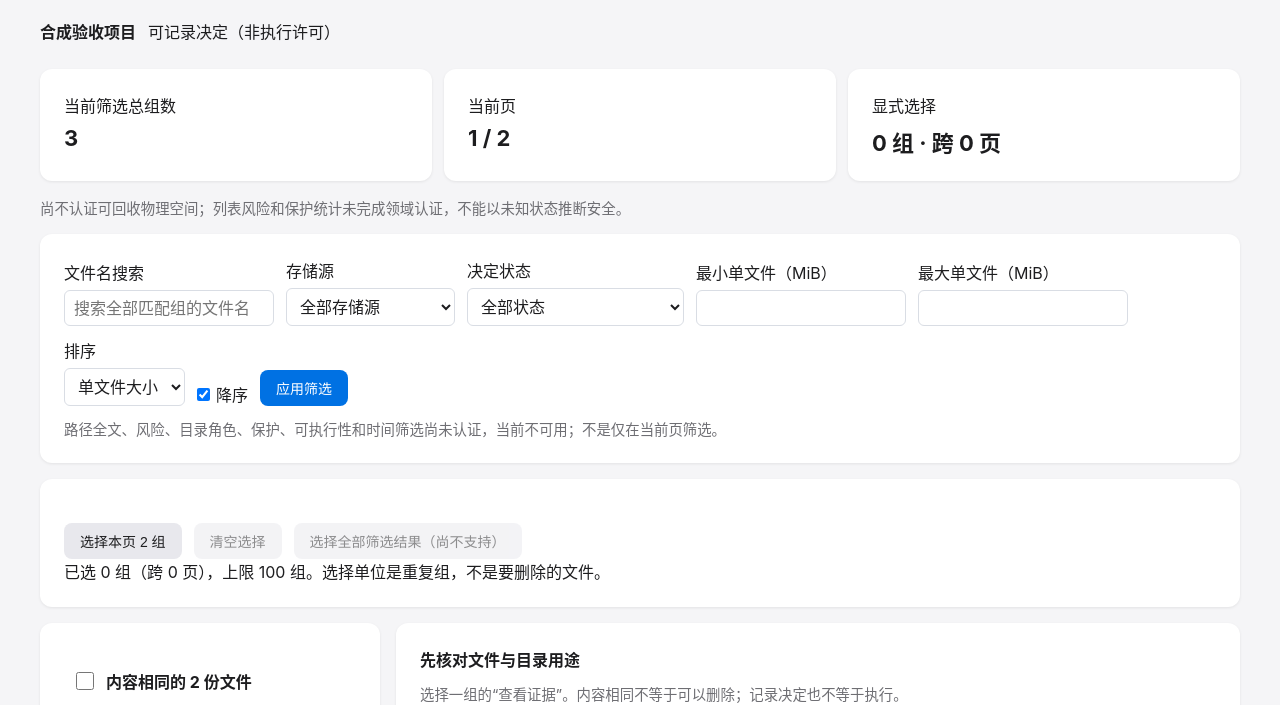
Test: governance workbench selection and records-only flow › preserves explicit groups across pages and never submits hidden unselected IDs
The image size is (1280, 705).
Click the checkbox named "选择本页第 1 组".
click(85, 681)  # box x1=76 y1=672 x2=94 y2=690
(page scrolled)
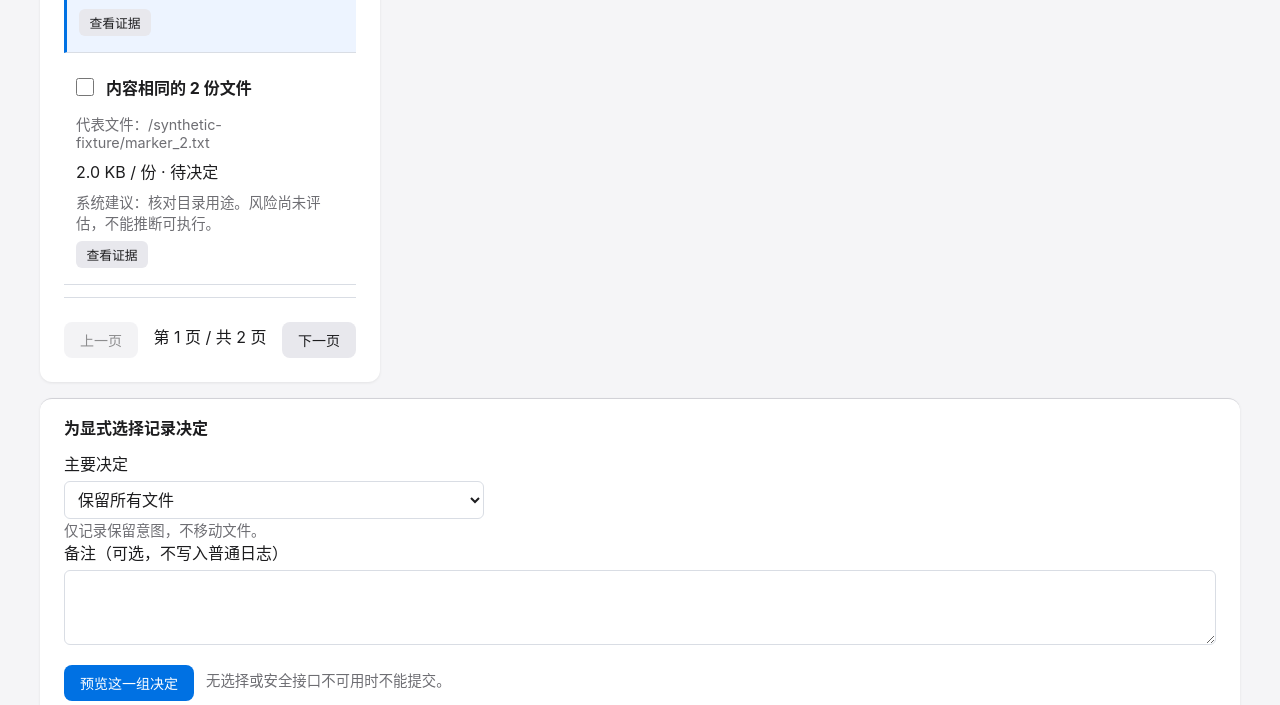
Click the button "下一页".
click(319, 340)  # box x1=282 y1=322 x2=356 y2=358
(page scrolled)
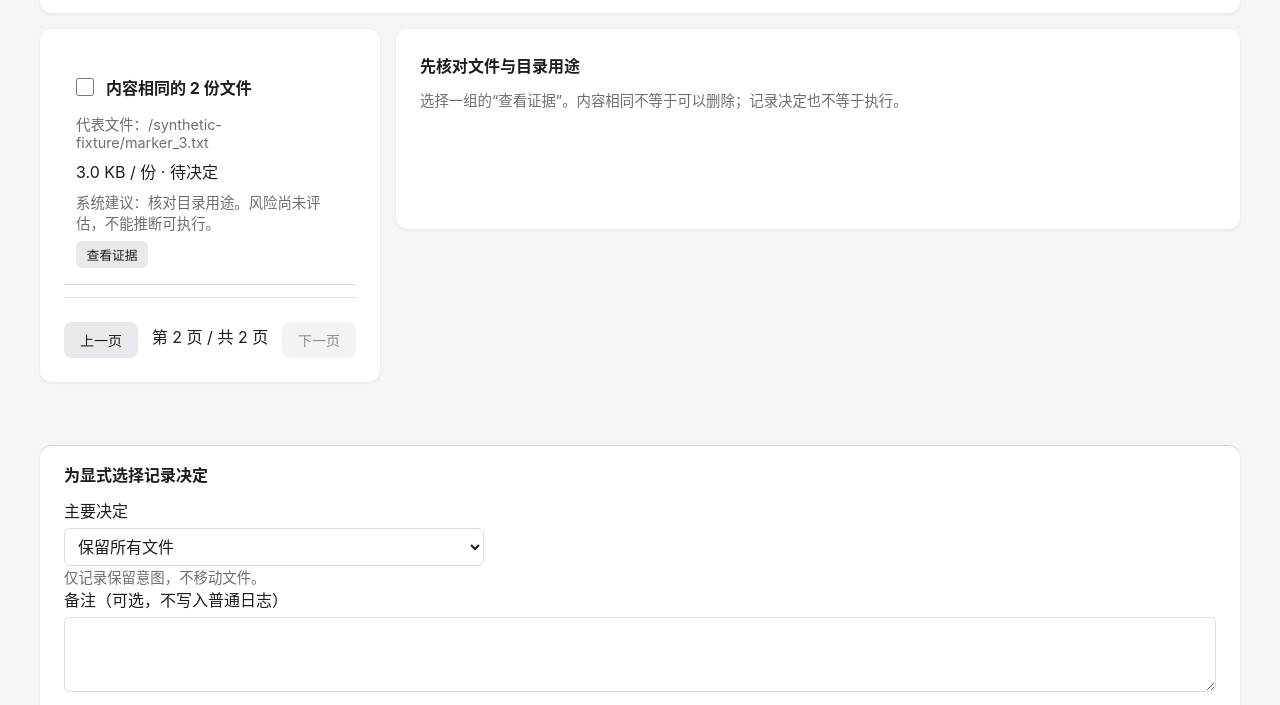
Now the text "代表文件：/synthetic-fixture/marker_3.txt" is shown, box x1=76 y1=116 x2=222 y2=151
Click the checkbox named "选择本页第 1 组".
click(85, 87)  # box x1=76 y1=78 x2=94 y2=96
(page scrolled)
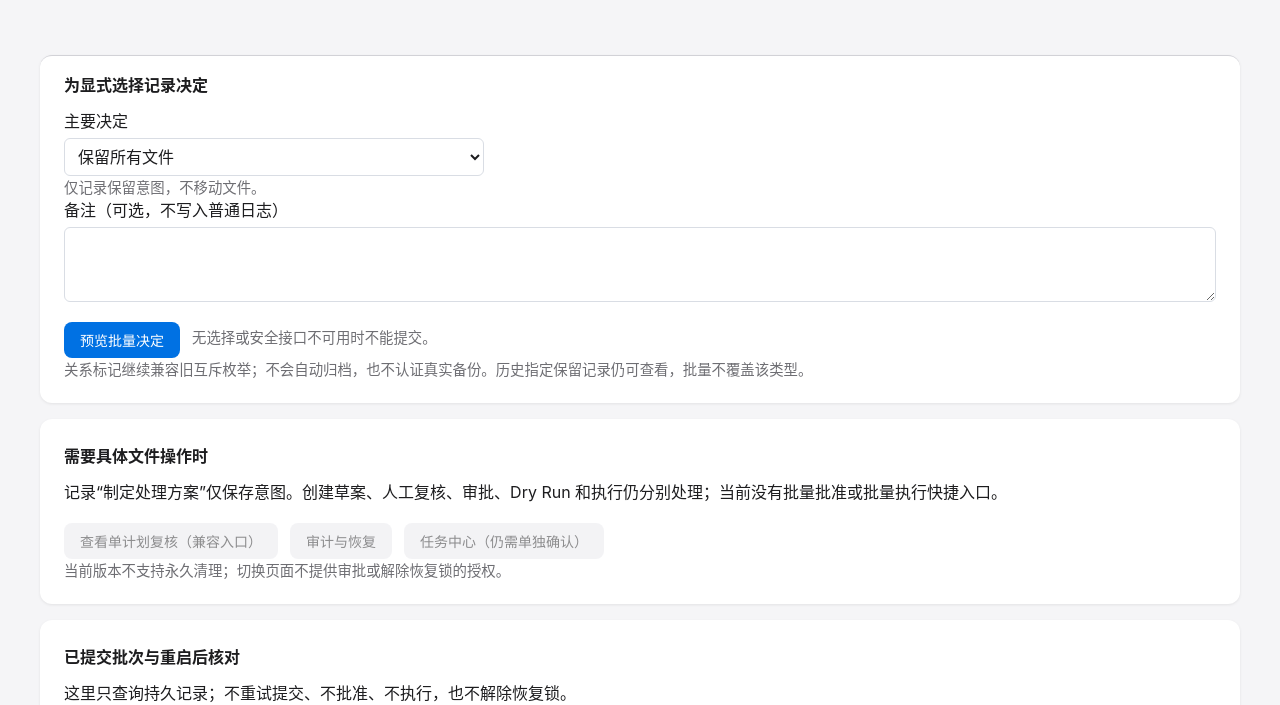
Click the button "预览批量决定".
click(122, 340)  # box x1=64 y1=322 x2=180 y2=358
(page scrolled)
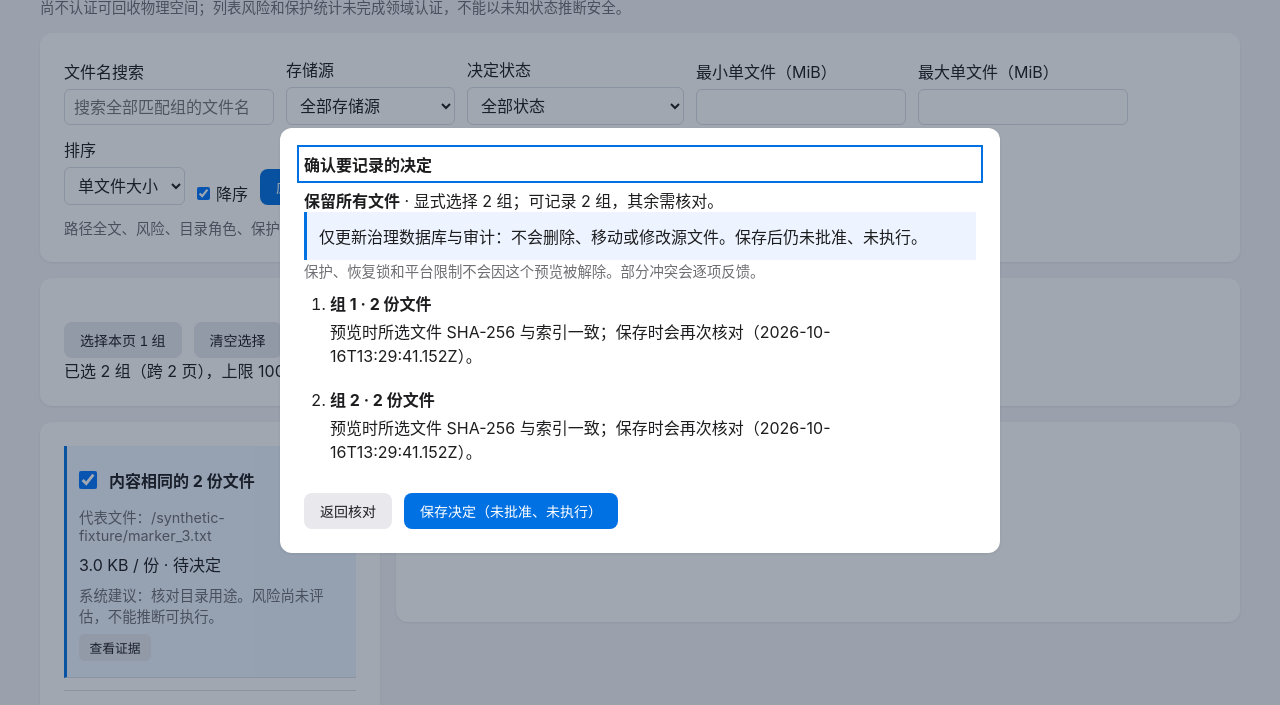
Expected: the button "选择全部筛选结果（尚不支持）" is disabled, x1=294 y1=322 x2=522 y2=358
Now the dialog is shown, box x1=280 y1=128 x2=1000 y2=552
